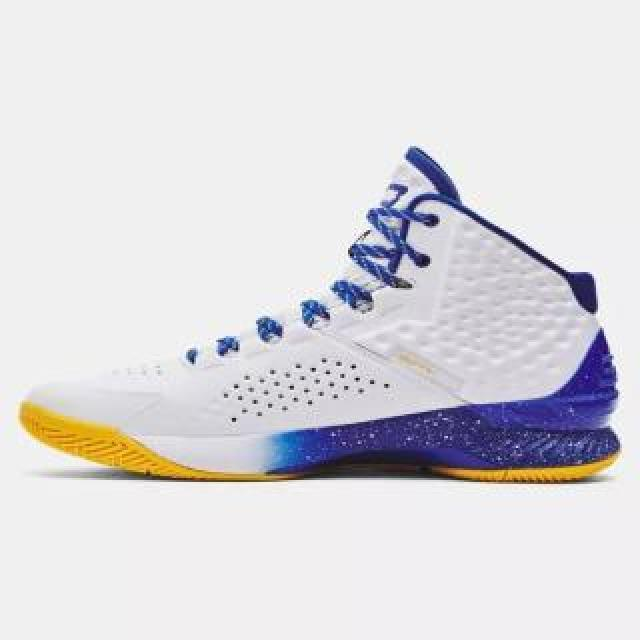shoes: (21, 142, 621, 484)
